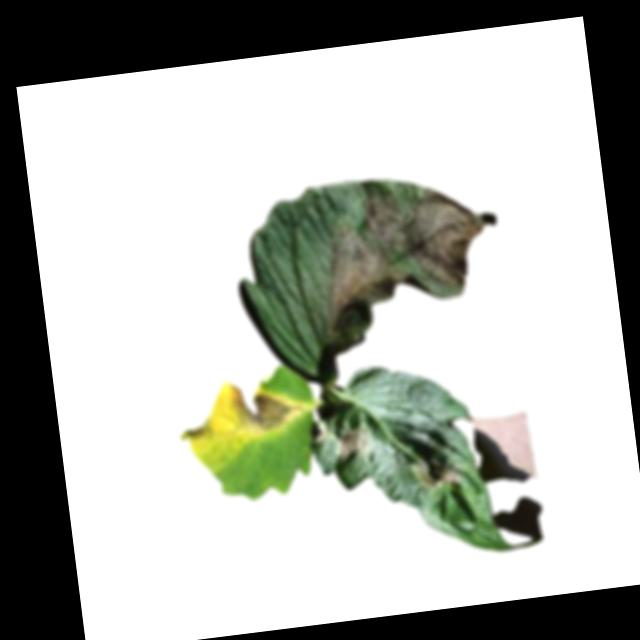Late_blight: (310, 170, 520, 355), (230, 373, 308, 432), (410, 453, 466, 489), (334, 425, 375, 462), (182, 422, 210, 440)
